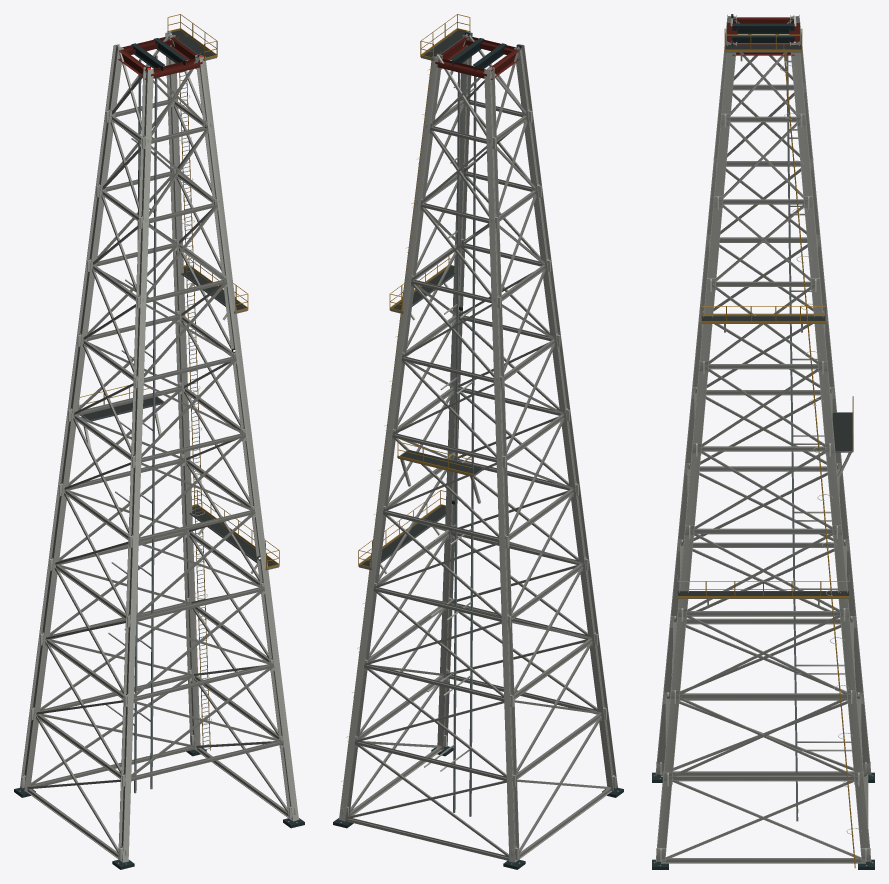
Rendered from offshore_derrick_lodm.glb.
3 renders of one model, left to right at view 1: azimuth 30°, elevation 25°; view 2: azimuth 150°, elevation 25°; view 3: azimuth 270°, elevation 25°, orthographic. The views are drawn at different scales.
Visible parts, largest first — view 1: main_legs_ivory, diagonal_bracing_ivory, horizontal_girts_ivory, top_drive_guide_rails_steel, splice_plates_and_fasteners_ivory, crown_support_frame_oxide, access_platforms_deck, ladder_and_safety_cage_yellow, access_platforms_yellow, ladder_and_safety_cage_steel, crown_support_frame_dark, access_platforms_steel; view 2: main_legs_ivory, diagonal_bracing_ivory, horizontal_girts_ivory, top_drive_guide_rails_steel, splice_plates_and_fasteners_ivory, crown_support_frame_oxide, access_platforms_deck, access_platforms_yellow, top_drive_guide_rails_ivory, crown_support_frame_dark, racking_platform_structure_deck, ladder_and_safety_cage_yellow (+1 smaller); view 3: main_legs_ivory, diagonal_bracing_ivory, horizontal_girts_ivory, splice_plates_and_fasteners_ivory, access_platforms_yellow, access_platforms_deck, top_drive_guide_rails_steel, ladder_and_safety_cage_yellow, crown_support_frame_dark, top_drive_guide_rails_ivory, crown_support_frame_oxide, access_platforms_steel (+2 smaller).
Boxes of the visible parts, bbox=[...] form: main_legs_ivory: bbox=[20, 31, 298, 862]; diagonal_bracing_ivory: bbox=[27, 33, 292, 860]; horizontal_girts_ivory: bbox=[25, 99, 292, 861]; top_drive_guide_rails_steel: bbox=[134, 55, 157, 793]; splice_plates_and_fasteners_ivory: bbox=[21, 94, 295, 859]; crown_support_frame_oxide: bbox=[116, 36, 202, 79]; access_platforms_deck: bbox=[171, 30, 275, 566]; ladder_and_safety_cage_yellow: bbox=[178, 35, 210, 750]; access_platforms_yellow: bbox=[167, 14, 279, 569]; ladder_and_safety_cage_steel: bbox=[180, 71, 209, 749]; crown_support_frame_dark: bbox=[131, 38, 187, 70]; access_platforms_steel: bbox=[172, 30, 278, 570]; main_legs_ivory: bbox=[339, 31, 617, 862]; diagonal_bracing_ivory: bbox=[345, 33, 610, 860]; horizontal_girts_ivory: bbox=[345, 100, 611, 861]; top_drive_guide_rails_steel: bbox=[453, 72, 476, 816]; splice_plates_and_fasteners_ivory: bbox=[342, 94, 616, 859]; crown_support_frame_oxide: bbox=[435, 36, 521, 79]; access_platforms_deck: bbox=[362, 30, 465, 566]; access_platforms_yellow: bbox=[358, 14, 470, 569]; top_drive_guide_rails_ivory: bbox=[424, 84, 475, 771]; crown_support_frame_dark: bbox=[450, 38, 506, 70]; racking_platform_structure_deck: bbox=[400, 450, 482, 474]; ladder_and_safety_cage_yellow: bbox=[340, 49, 440, 804]; main_legs_ivory: bbox=[655, 14, 871, 862]; diagonal_bracing_ivory: bbox=[661, 15, 866, 861]; horizontal_girts_ivory: bbox=[661, 84, 868, 863]; splice_plates_and_fasteners_ivory: bbox=[656, 81, 870, 861]; access_platforms_yellow: bbox=[677, 28, 849, 598]; access_platforms_deck: bbox=[678, 45, 848, 595]; top_drive_guide_rails_steel: bbox=[786, 55, 798, 821]; ladder_and_safety_cage_yellow: bbox=[783, 44, 855, 868]; crown_support_frame_dark: bbox=[732, 23, 794, 42]; top_drive_guide_rails_ivory: bbox=[788, 60, 851, 751]; crown_support_frame_oxide: bbox=[727, 17, 799, 55]; access_platforms_steel: bbox=[677, 44, 849, 598].
Size of the model in its own units: 13.41 by 52.79 by 13.2.
Materials: 9 (9 with a texture image).
